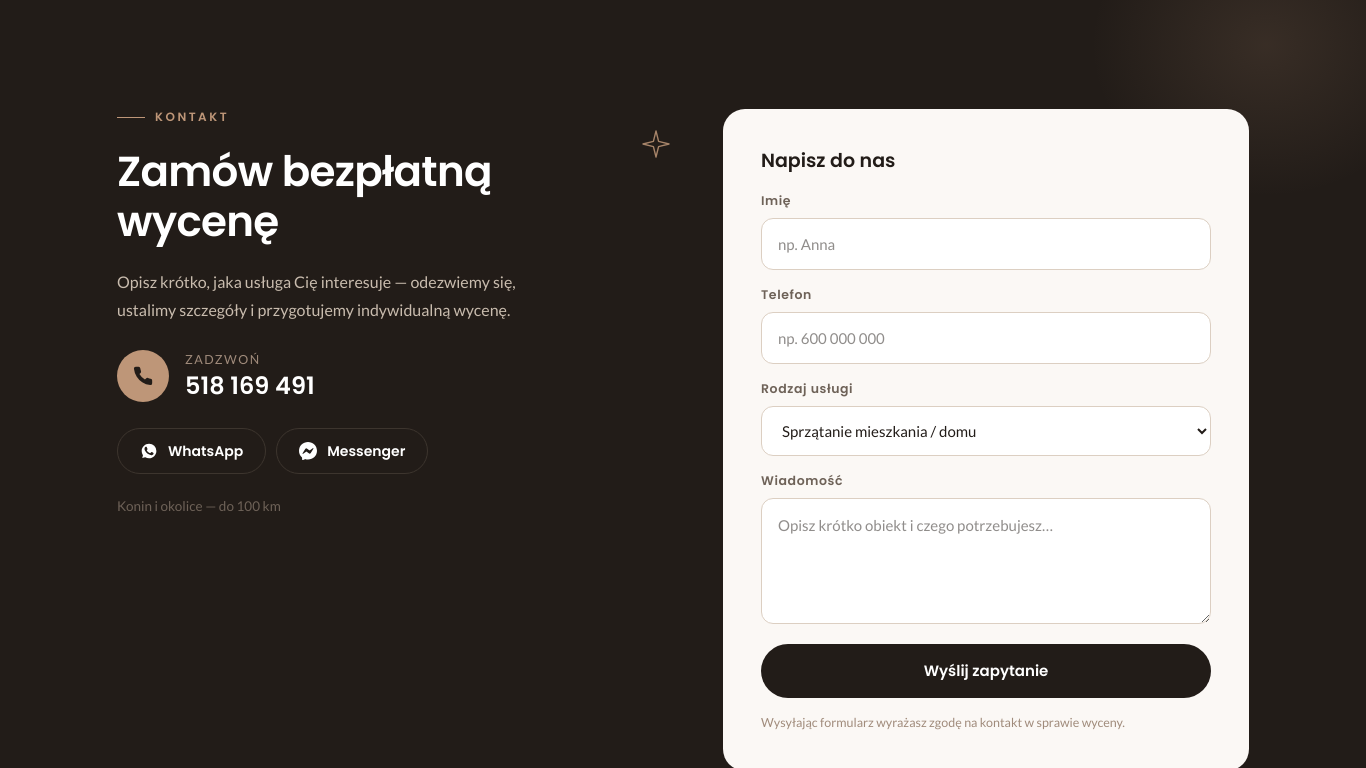
Test: submitting shows the thank-you panel without leaving the form
Type "Anna" into the field labelled "Imię" at {"x": 986, "y": 244}, box [761,218,1211,270]
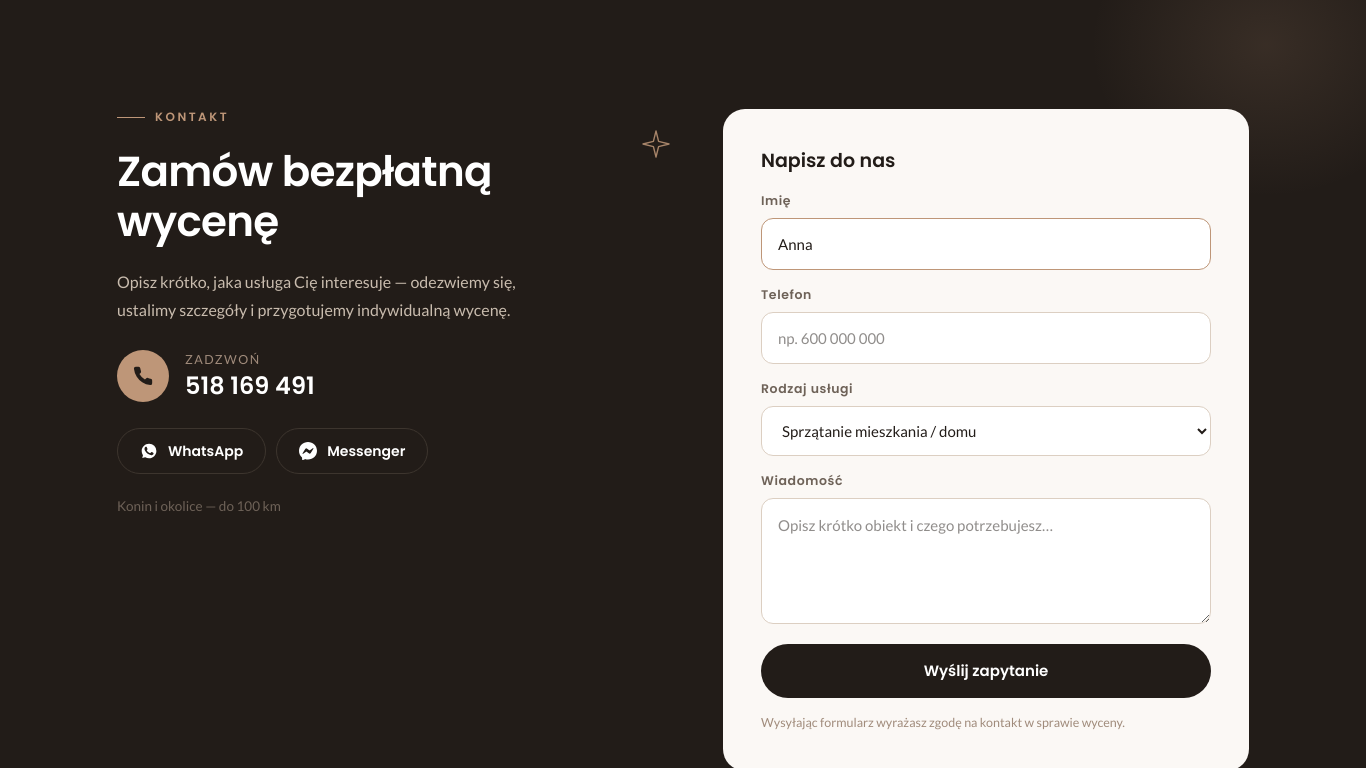
Click the button "Wyślij zapytanie" at {"x": 986, "y": 671}, box [761,644,1211,698]
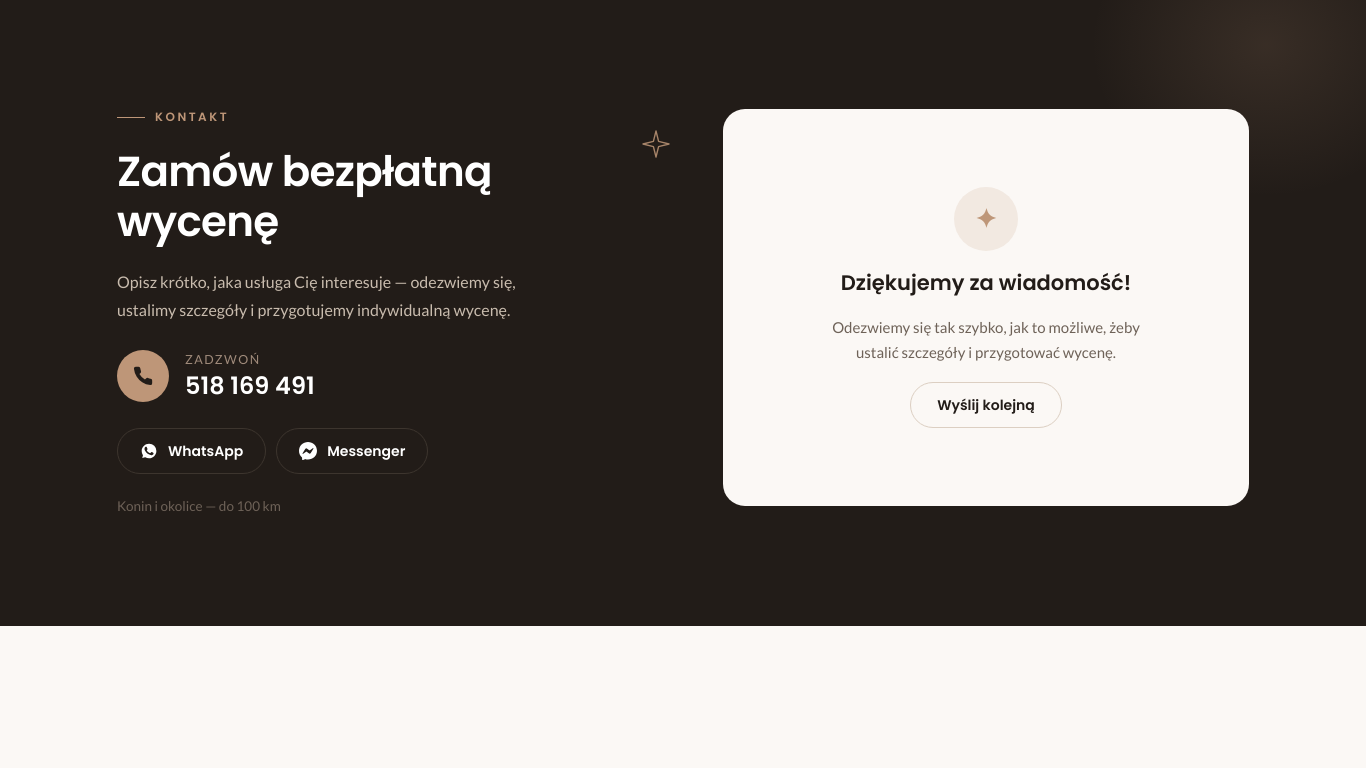
Expected: the text "Dziękujemy za wiadomość!" is shown, [841,267,1131,299]
Expected: the text labelled "Imię" is gone
